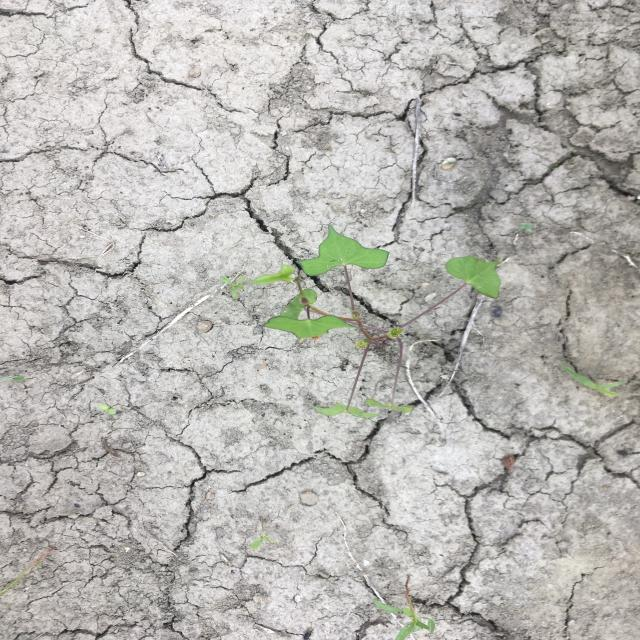MorningGlory: (241, 222, 504, 421)
